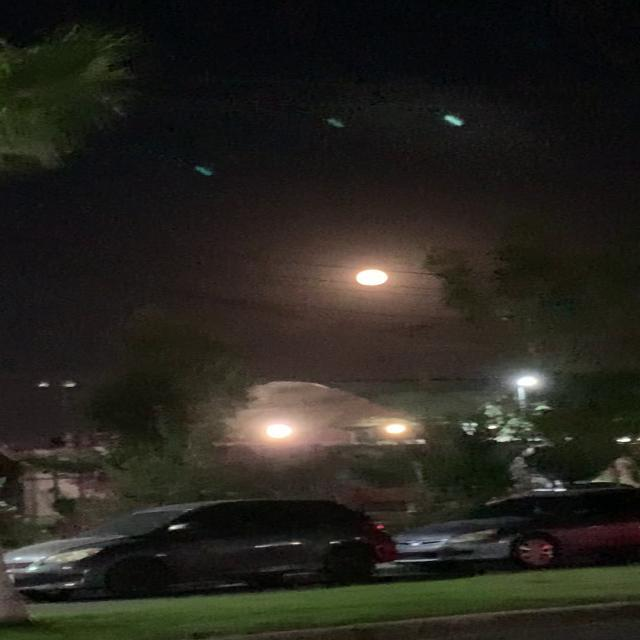moon: (334, 266, 388, 292)
